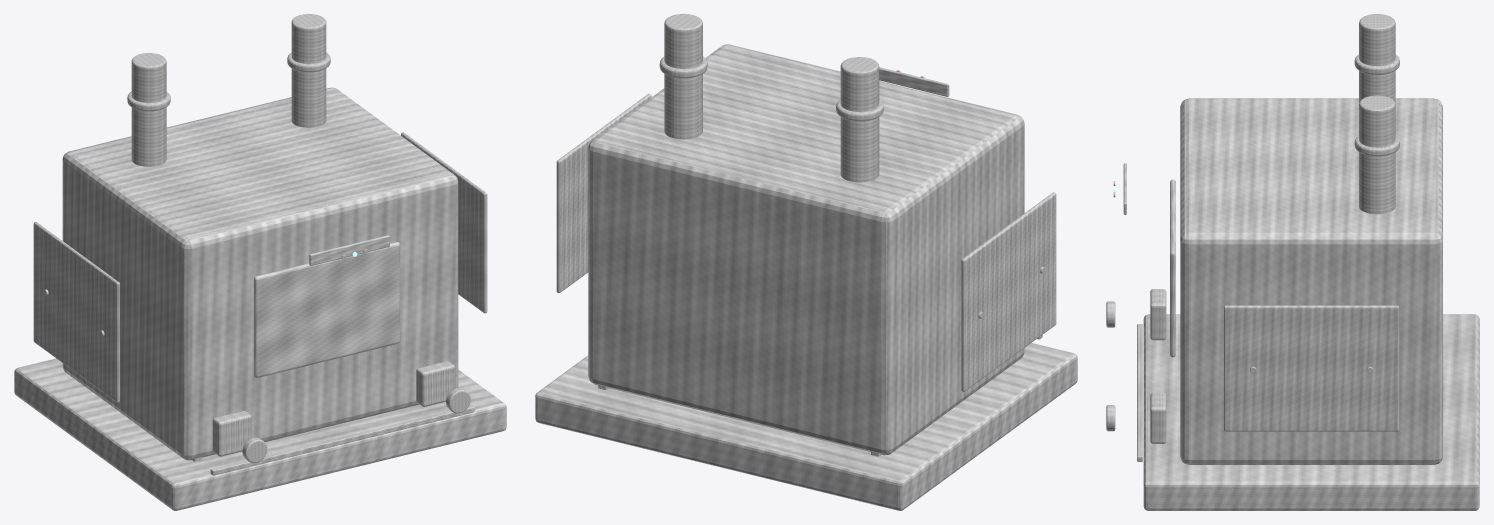
Rendered from foundry_variant_d.glb.
3 renders of one model, left to right at view 1: azimuth 30°, elevation 25°; view 2: azimuth 150°, elevation 25°; view 3: azimuth 270°, elevation 25°, orthographic. The views are drawn at different scales.
Visible parts, largest first — view 1: Main machine shell.003, Foundation skid.003, Smelting furnace mouth.003, Side access panel.006, Side access panel.007, Exhaust stack.006, Exhaust stack.007, Amber safety sill, Input output port.006, Input output port.007, Status panel.003; view 2: Main machine shell.003, Foundation skid.003, Side access panel.006, Side access panel.007, Exhaust stack.006, Exhaust stack.007, Status panel.003; view 3: Main machine shell.003, Foundation skid.003, Side access panel.007, Exhaust stack.007, Exhaust stack.006, Smelting furnace mouth.003, Input output port.007, Input output port.006, Amber safety sill, Stack collar.007, Stack collar.006.
Part boxes in pixels (<box>): Main machine shell.003: <box>62,87,458,460</box>; Foundation skid.003: <box>14,358,506,510</box>; Smelting furnace mouth.003: <box>254,242,399,377</box>; Side access panel.006: <box>33,222,119,402</box>; Side access panel.007: <box>401,132,487,313</box>; Exhaust stack.006: <box>131,53,166,166</box>; Exhaust stack.007: <box>291,14,326,127</box>; Amber safety sill: <box>210,405,474,475</box>; Input output port.006: <box>212,411,251,456</box>; Input output port.007: <box>416,361,455,406</box>; Status panel.003: <box>309,235,389,265</box>; Main machine shell.003: <box>588,44,1024,455</box>; Foundation skid.003: <box>535,343,1077,510</box>; Side access panel.006: <box>961,192,1056,391</box>; Side access panel.007: <box>556,93,651,292</box>; Exhaust stack.006: <box>840,57,879,182</box>; Exhaust stack.007: <box>664,14,702,139</box>; Status panel.003: <box>879,67,949,96</box>; Main machine shell.003: <box>1180,98,1442,464</box>; Foundation skid.003: <box>1143,314,1479,510</box>; Side access panel.007: <box>1224,305,1399,431</box>; Exhaust stack.007: <box>1359,95,1395,214</box>; Exhaust stack.006: <box>1359,14,1395,103</box>; Smelting furnace mouth.003: <box>1170,179,1175,357</box>; Input output port.007: <box>1150,392,1166,443</box>; Input output port.006: <box>1150,289,1166,340</box>; Amber safety sill: <box>1137,324,1142,461</box>; Stack collar.007: <box>1354,136,1399,156</box>; Stack collar.006: <box>1354,54,1399,74</box>.
Size of what is drawn, in the model's own units: 6.19 by 5.53 by 5.11.
Materials: 6 (6 with a texture image).
